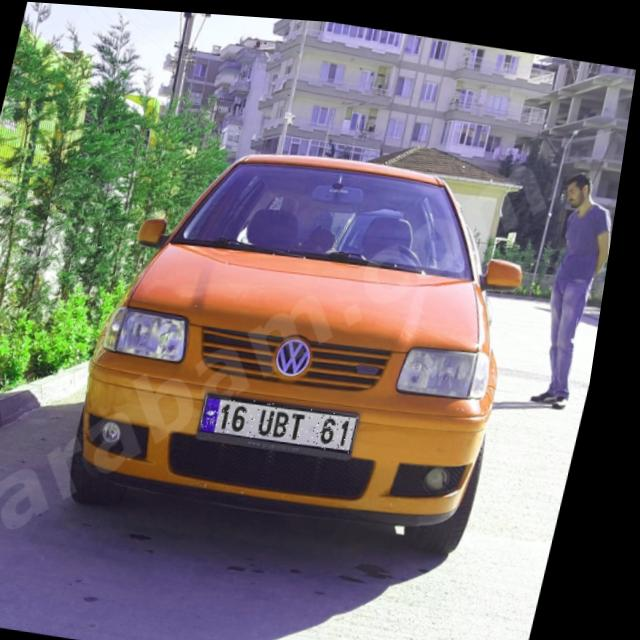license_plate: (210, 390, 372, 449)
